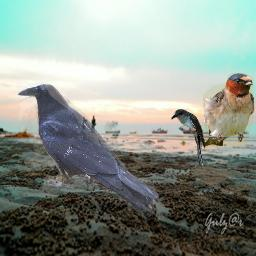Crow: (16, 82, 159, 217)
Cuckoo: (171, 109, 206, 166)
Swallow: (202, 73, 256, 147)
